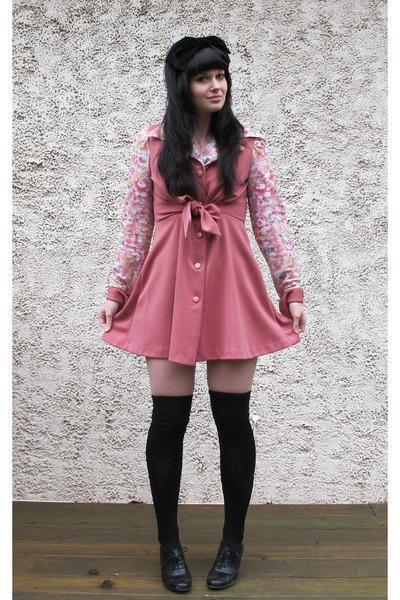dress: (90, 123, 316, 363)
hat: (166, 36, 231, 76)
shoe: (159, 536, 242, 594)
